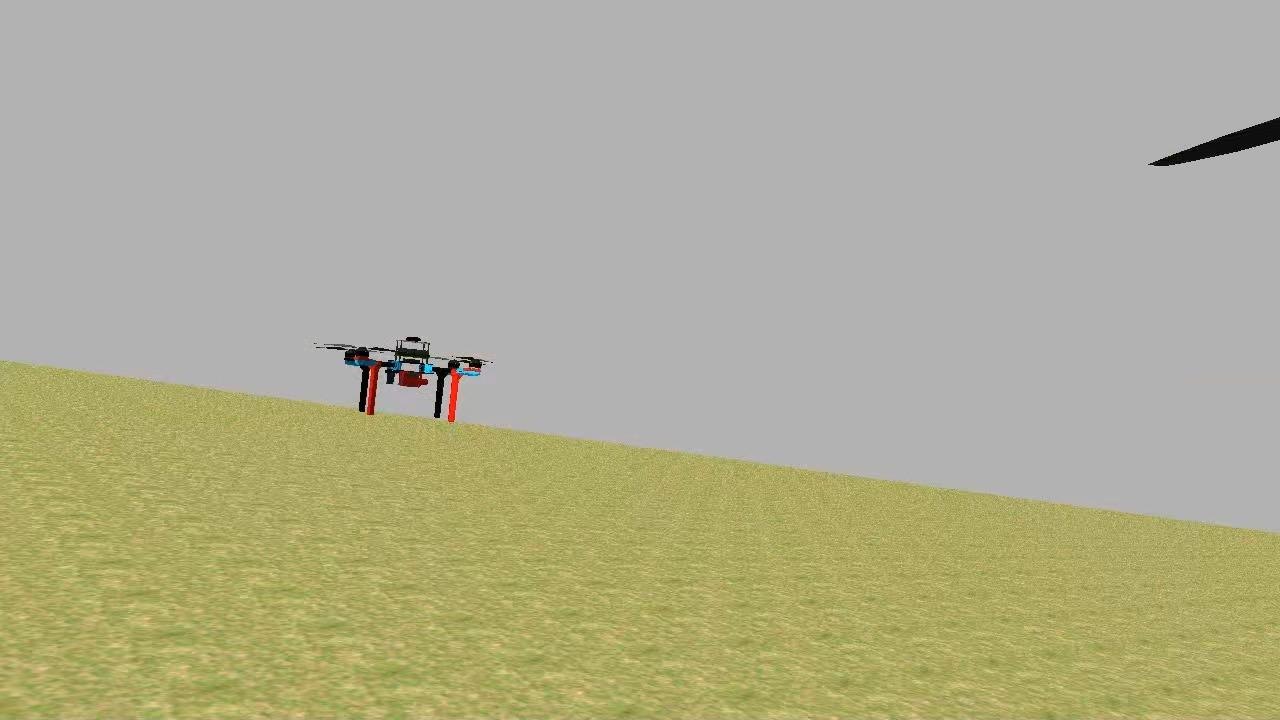UAV: (332, 330, 488, 426)
